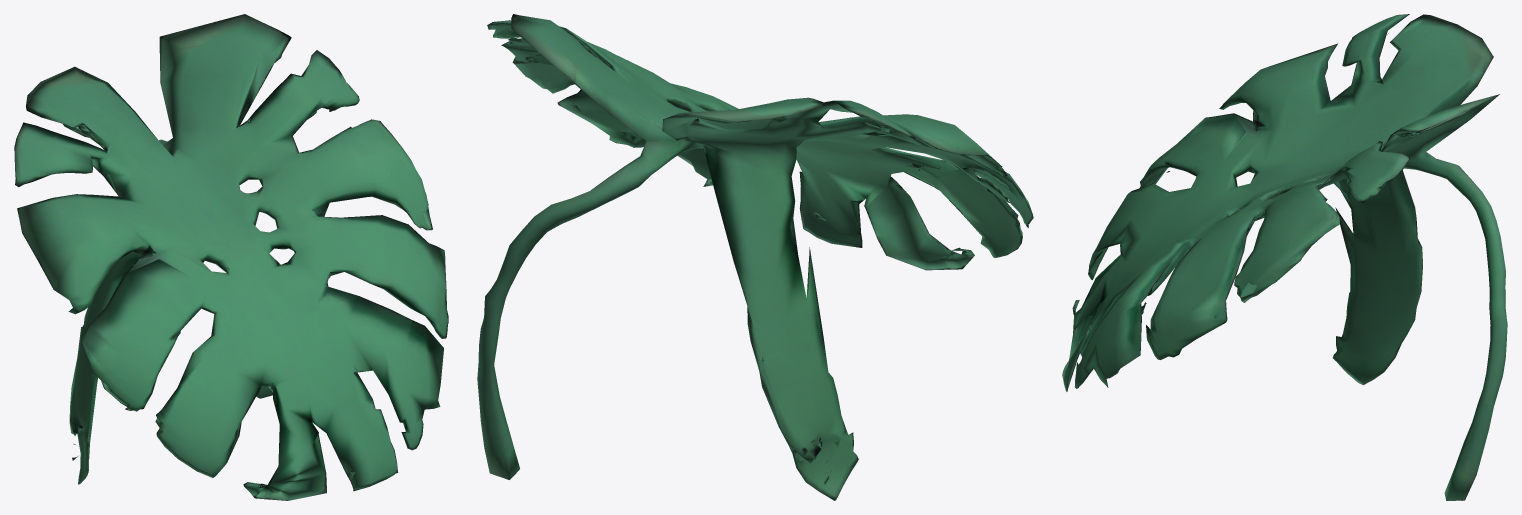
Rendered from mon_greenwhite_34.glb.
3 views of the same model, side by side, from view 1: azimuth 30°, elevation 25°; view 2: azimuth 150°, elevation 25°; view 3: azimuth 270°, elevation 25° (orthographic). The views are drawn at different scales.
Bounding box in the file's own units: 2 × 1.87 × 1.98.
1 material, 1 textured.
